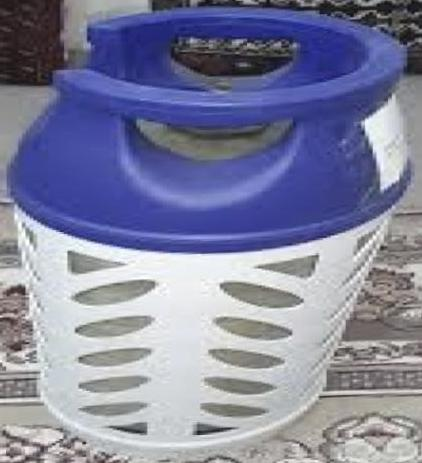cylinder: (1, 1, 422, 463)
